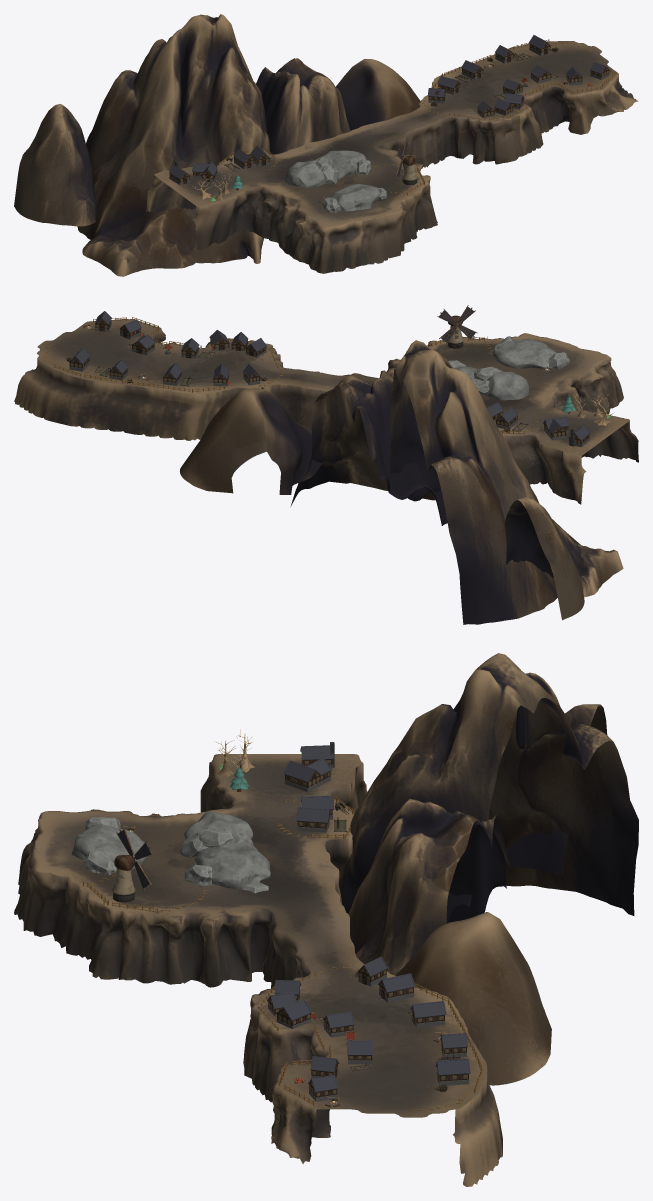
File: Level1_Zona2(Alpha1).fbx
3 views of the same model, one above another, from view 1: azimuth 30°, elevation 25°; view 2: azimuth 150°, elevation 25°; view 3: azimuth 270°, elevation 25° (orthographic). The views are drawn at different scales.
Visible parts, largest first — view 1: Mountains2_low, TerrenoLevel1_Zona2.004_level1, TerrenoLevel1_Zona2.002_level1, Mountains1_low, Mountains3_low, TerrenoLevel1_Zona2.001_level1, Mountains4_low, TerrenoLevel1_Zona2.003_level1, TerrenoLevel1_Zona2_level1, Gran_Piedra3_Pablo_level1, Gran_Piedra_Pablo_level1, Gran_Piedra2_Pablo_level1 (+2 smaller); view 2: Mountains2_low, TerrenoLevel1_Zona2.004_level1, Mountains3_low, Mountains4_low, TerrenoLevel1_Zona2.002_level1, TerrenoLevel1_Zona2.001_level1, Mountains1_low, TerrenoLevel1_Zona2.003_level1, Gran_Piedra3_Pablo_level1, TerrenoLevel1_Zona2_level1, Gran_Piedra_Pablo_level1, Pablo_Molino_aspas_level1 (+1 smaller); view 3: Mountains2_low, TerrenoLevel1_Zona2.002_level1, TerrenoLevel1_Zona2.004_level1, Mountains3_low, Mountains4_low, TerrenoLevel1_Zona2_level1, TerrenoLevel1_Zona2.001_level1, TerrenoLevel1_Zona2.003_level1, Mountains1_low, Gran_Piedra2_Pablo_level1, Gran_Piedra3_Pablo_level1, Pablo_Molino_aspas_level1 (+6 smaller).
Boxes of the visible parts, box(x1,y1,x2,y2) form: Mountains2_low: box(77, 14, 270, 276); TerrenoLevel1_Zona2.004_level1: box(418, 41, 638, 164); TerrenoLevel1_Zona2.002_level1: box(254, 141, 437, 273); Mountains1_low: box(14, 104, 96, 226); Mountains3_low: box(256, 58, 350, 154); TerrenoLevel1_Zona2.001_level1: box(146, 163, 256, 249); Mountains4_low: box(336, 59, 420, 130); TerrenoLevel1_Zona2.003_level1: box(355, 108, 452, 168); TerrenoLevel1_Zona2_level1: box(219, 129, 380, 207); Gran_Piedra3_Pablo_level1: box(331, 184, 380, 211); Gran_Piedra_Pablo_level1: box(285, 160, 324, 188); Gran_Piedra2_Pablo_level1: box(316, 150, 366, 178); Mountains2_low: box(390, 340, 623, 624); TerrenoLevel1_Zona2.004_level1: box(14, 319, 283, 440); Mountains3_low: box(290, 370, 447, 525); Mountains4_low: box(180, 388, 322, 494); TerrenoLevel1_Zona2.002_level1: box(373, 333, 623, 413); TerrenoLevel1_Zona2.001_level1: box(514, 409, 638, 504); Mountains1_low: box(505, 497, 584, 620); TerrenoLevel1_Zona2.003_level1: box(277, 366, 376, 432); Gran_Piedra3_Pablo_level1: box(493, 339, 556, 368); TerrenoLevel1_Zona2_level1: box(481, 394, 557, 456); Gran_Piedra_Pablo_level1: box(485, 371, 529, 400); Pablo_Molino_aspas_level1: box(437, 305, 477, 348); Mountains2_low: box(339, 653, 638, 923); TerrenoLevel1_Zona2.002_level1: box(14, 808, 279, 987); TerrenoLevel1_Zona2.004_level1: box(243, 962, 502, 1186); Mountains3_low: box(348, 798, 511, 975); Mountains4_low: box(395, 912, 551, 1085); TerrenoLevel1_Zona2_level1: box(229, 799, 354, 913); TerrenoLevel1_Zona2.001_level1: box(200, 754, 367, 812); TerrenoLevel1_Zona2.003_level1: box(270, 908, 362, 989); Mountains1_low: box(505, 704, 607, 874); Gran_Piedra2_Pablo_level1: box(194, 841, 270, 889); Gran_Piedra3_Pablo_level1: box(71, 824, 146, 869); Pablo_Molino_aspas_level1: box(112, 827, 153, 902).
Size of the model in its own units: 22393 by 7861 by 14087.
